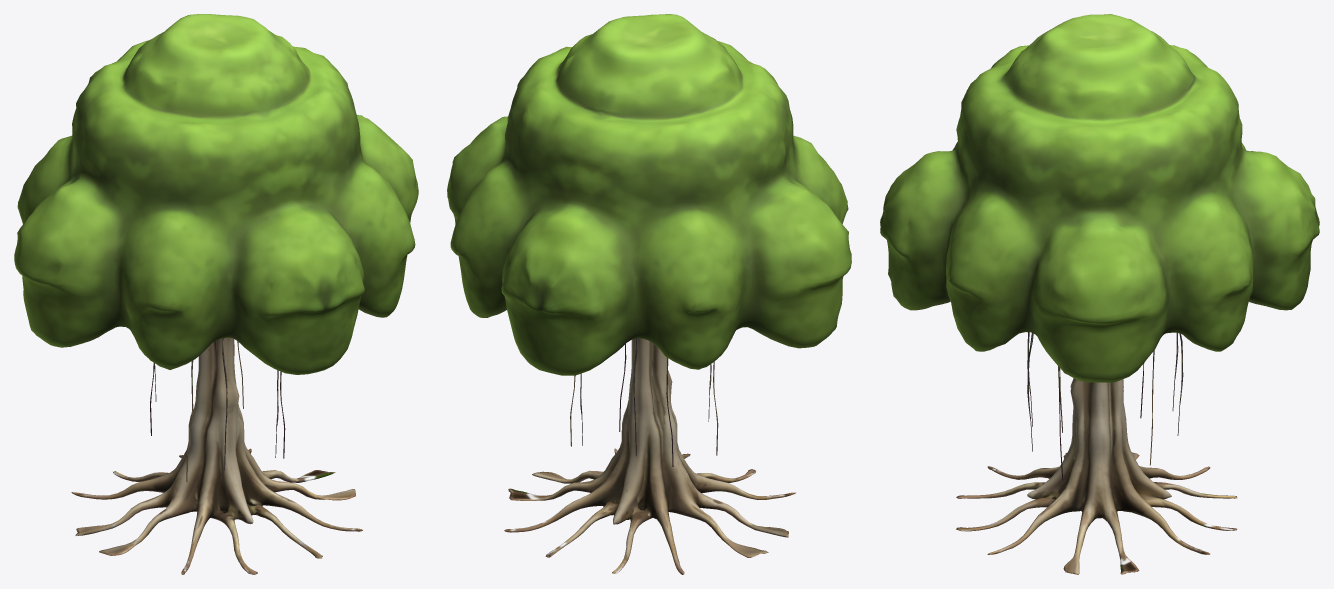
Rendered from tree3.fbx.
3 renders of one model, left to right at view 1: azimuth 30°, elevation 25°; view 2: azimuth 150°, elevation 25°; view 3: azimuth 270°, elevation 25°, orthographic.
Parts seen in each view (by area): view 1: model; view 2: model; view 3: model.
Part boxes in pixels (left/top/right/bottom): model: left=14, top=14, right=418, bottom=574; model: left=447, top=14, right=851, bottom=574; model: left=880, top=14, right=1319, bottom=574.
Size of the model in its own units: 157 by 186 by 154.
1 material, 1 textured.
